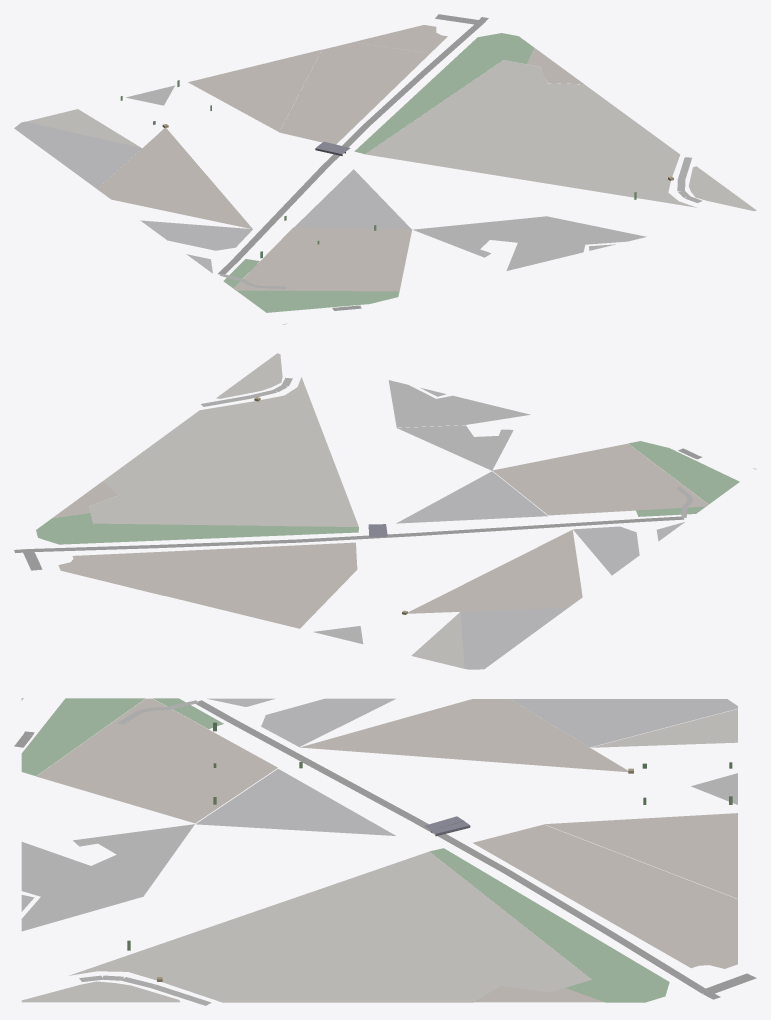
The picture shows the model from 3 angles, top to bottom: view 1: azimuth 30°, elevation 25°; view 2: azimuth 150°, elevation 25°; view 3: azimuth 270°, elevation 25°; orthographic projection. The views are drawn at different scales.
Size of the model in its own units: 506 by 8.15 by 519.
